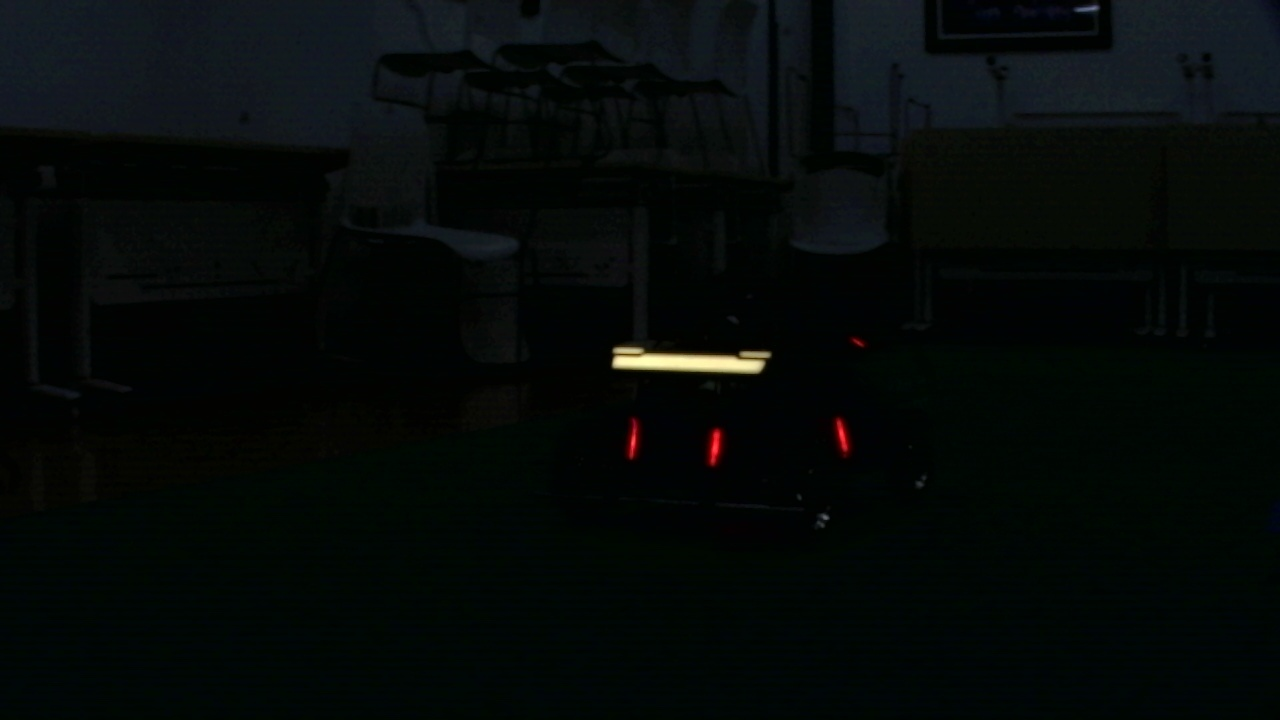lamp: (626, 414, 642, 466), (704, 422, 722, 465), (833, 415, 849, 453)
pair1: (626, 421, 723, 459)
